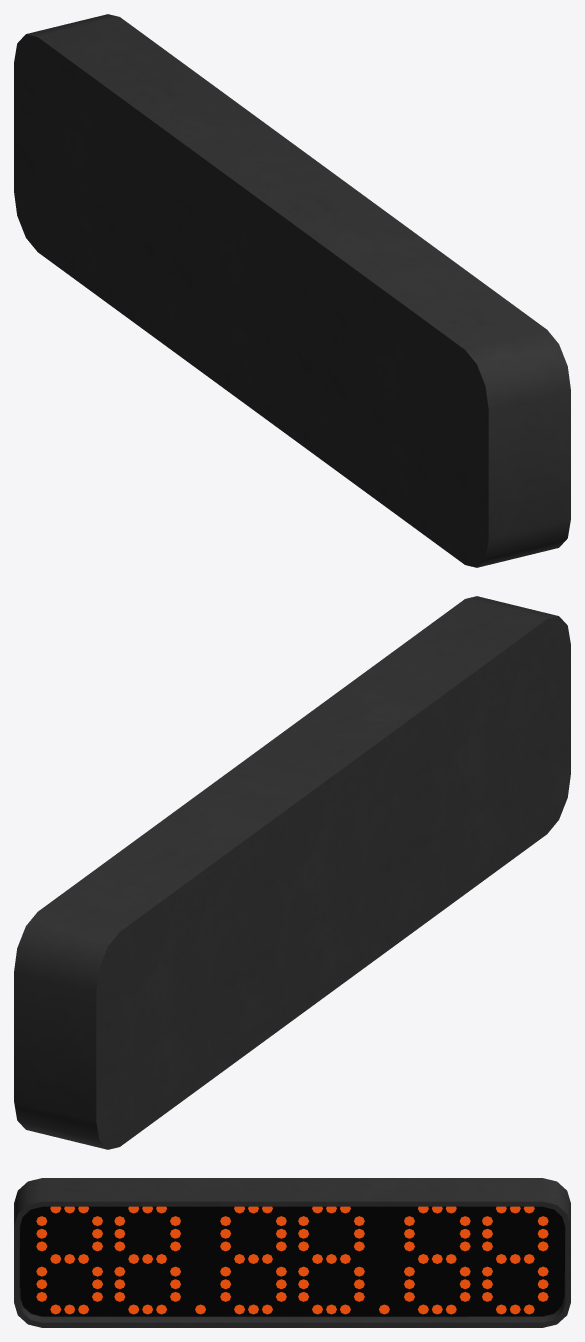
File: platform clock big.fbx
3 views of the same model, one above another, from view 1: azimuth 30°, elevation 25°; view 2: azimuth 150°, elevation 25°; view 3: azimuth 270°, elevation 25° (orthographic). The views are drawn at different scales.
Visible parts, largest first — view 1: platform clock big.002|platform clock big|Dupli|; view 2: platform clock big.002|platform clock big|Dupli|; view 3: platform clock big.002|platform clock big|Dupli|, platform clock big.002|platform clock digit segment 4|Dupli| (×6), platform clock big.002|platform clock digit segment 5|Dupli| (×6), platform clock big.002|platform clock digit segment 6|Dupli| (×6), platform clock big.002|platform clock digit segment 3|Dupli| (×6), platform clock big.002|platform clock digit segment 2|Dupli| (×6), platform clock big.002|platform clock digit segment 7|Dupli| (×6), platform clock big.002|platform clock digit segment 1|Dupli| (×6).
Boxes of the visible parts, box(x1,y1,x2,y2) form: platform clock big.002|platform clock big|Dupli|: box(14, 14, 570, 567); platform clock big.002|platform clock big|Dupli|: box(14, 596, 570, 1149); platform clock big.002|platform clock big|Dupli|: box(14, 1178, 570, 1327); platform clock big.002|platform clock digit segment 4|Dupli| (×6): box(50, 1254, 534, 1263); platform clock big.002|platform clock digit segment 5|Dupli| (×6): box(36, 1266, 492, 1301); platform clock big.002|platform clock digit segment 6|Dupli| (×6): box(92, 1266, 548, 1301); platform clock big.002|platform clock digit segment 3|Dupli| (×6): box(92, 1216, 548, 1251); platform clock big.002|platform clock digit segment 2|Dupli| (×6): box(36, 1216, 492, 1251); platform clock big.002|platform clock digit segment 7|Dupli| (×6): box(50, 1304, 534, 1314); platform clock big.002|platform clock digit segment 1|Dupli| (×6): box(50, 1206, 534, 1213).
Size of the model in its own units: 20 by 50 by 200.
